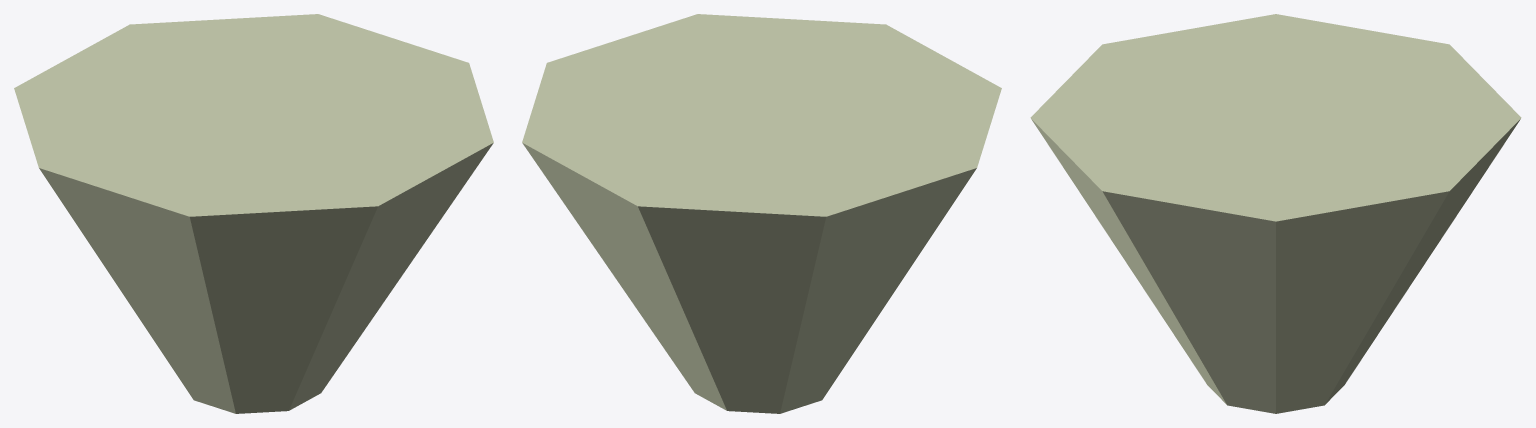
Rendered from 4mv_engine_s0_1_s0collider.obj.
3 renders of one model, left to right at view 1: azimuth 30°, elevation 25°; view 2: azimuth 150°, elevation 25°; view 3: azimuth 270°, elevation 25°, orthographic.
Visible parts, largest first — view 1: collider; view 2: collider; view 3: collider.
Part boxes in pixels (x1,y1,x2,y2): collider: [14, 14, 493, 413]; collider: [522, 14, 1001, 413]; collider: [1030, 14, 1521, 413].
Bounding box in the file's own units: 0.625 × 0.375 × 0.625.
